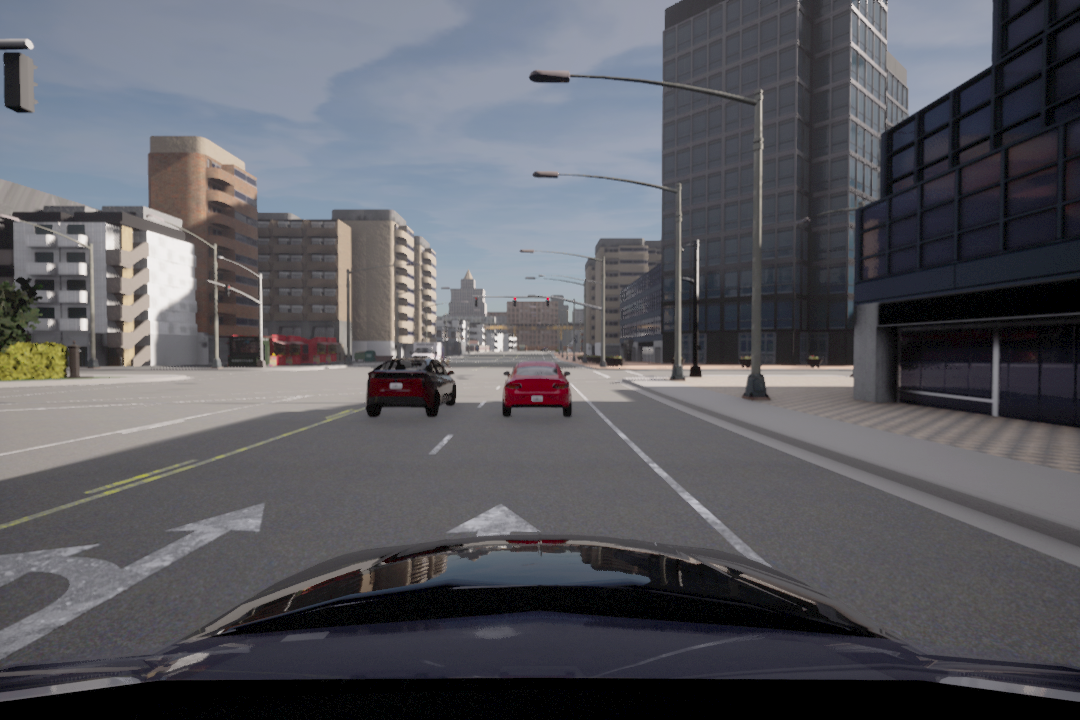RoadSign_forward_left: (1, 490, 271, 671)
